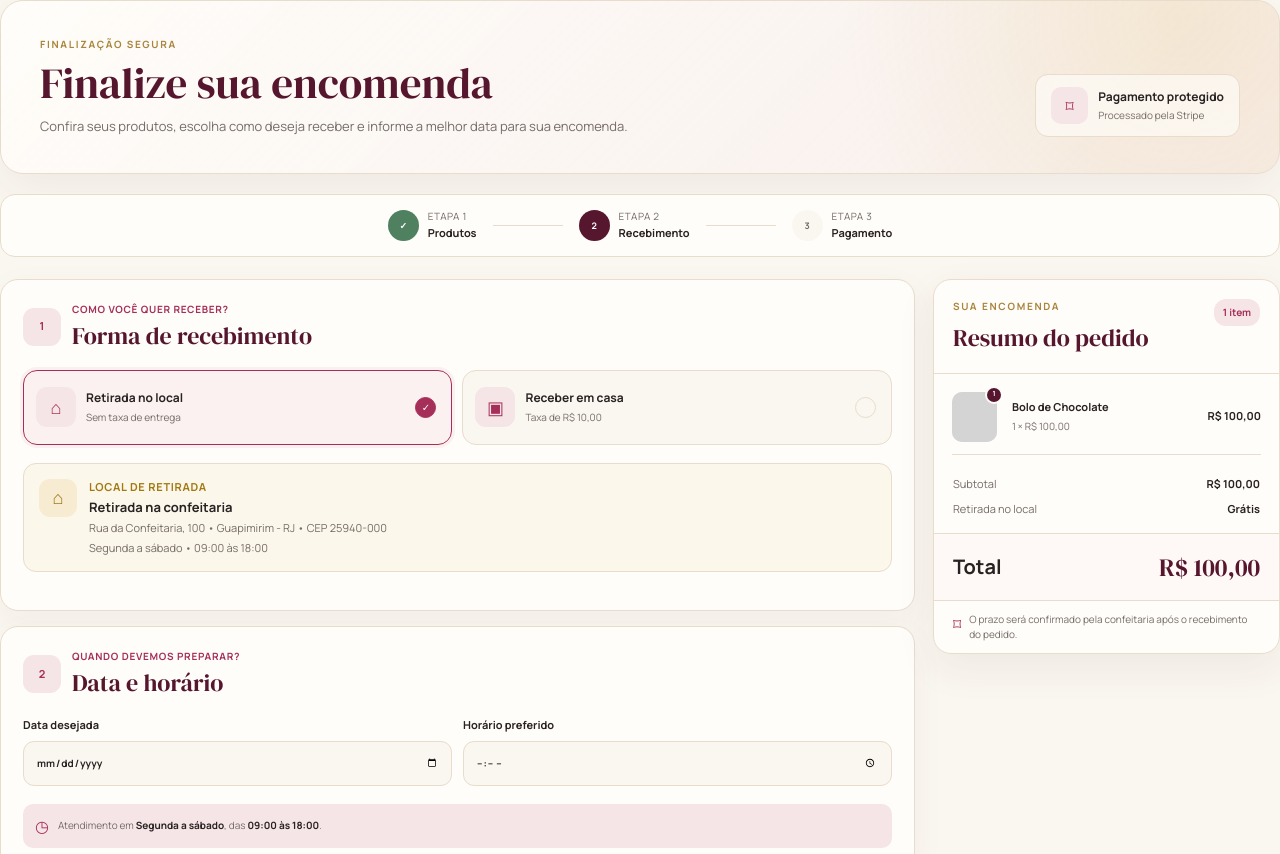
Test: Payment - validações › exige número ou S/N no endereço
Click the button "▣ Receber em casa Taxa de R$ 10,00" at (495, 407), box [462,370,892,445]
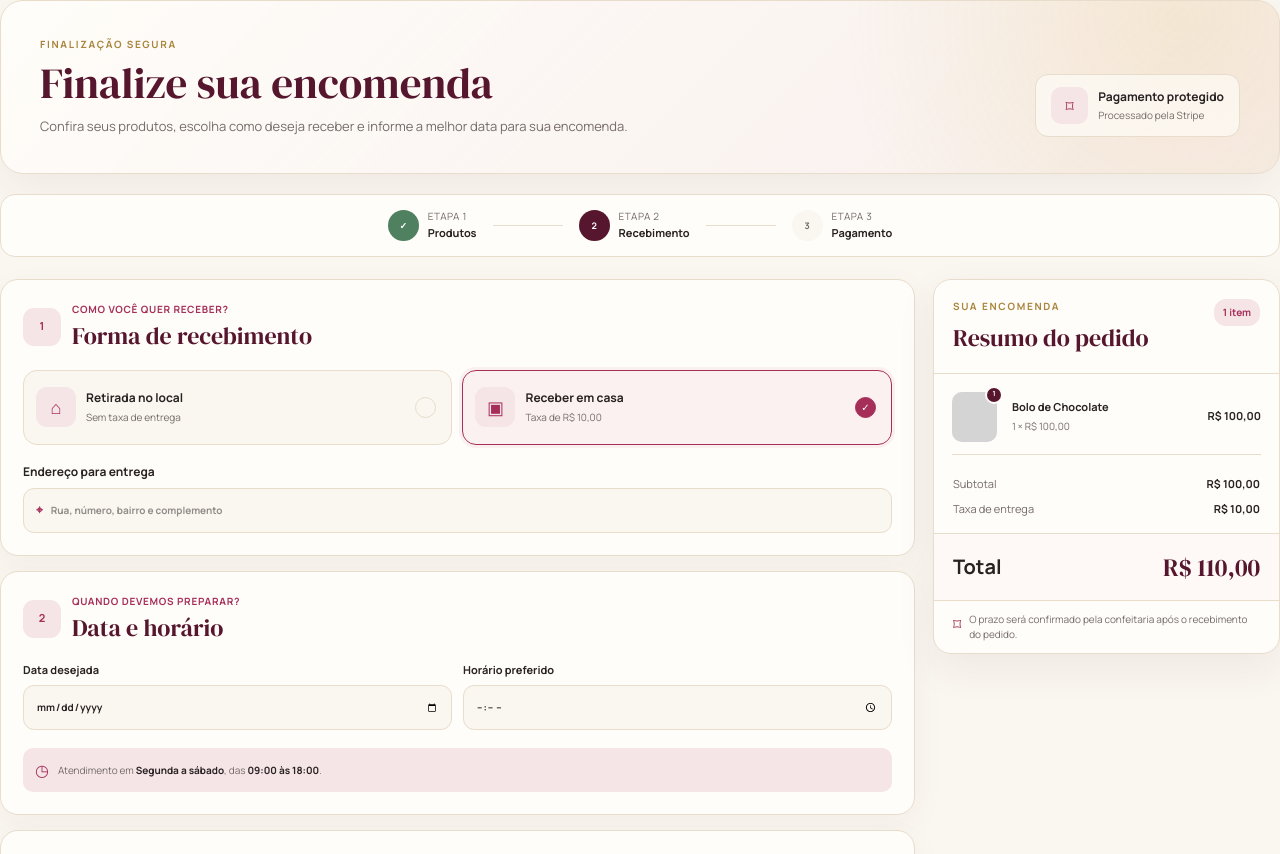
Type "Rua das Flores, Centro" into the field labelled "Endereço para entrega ⌖" at (465, 510), box [51,503,879,518]
(page scrolled)
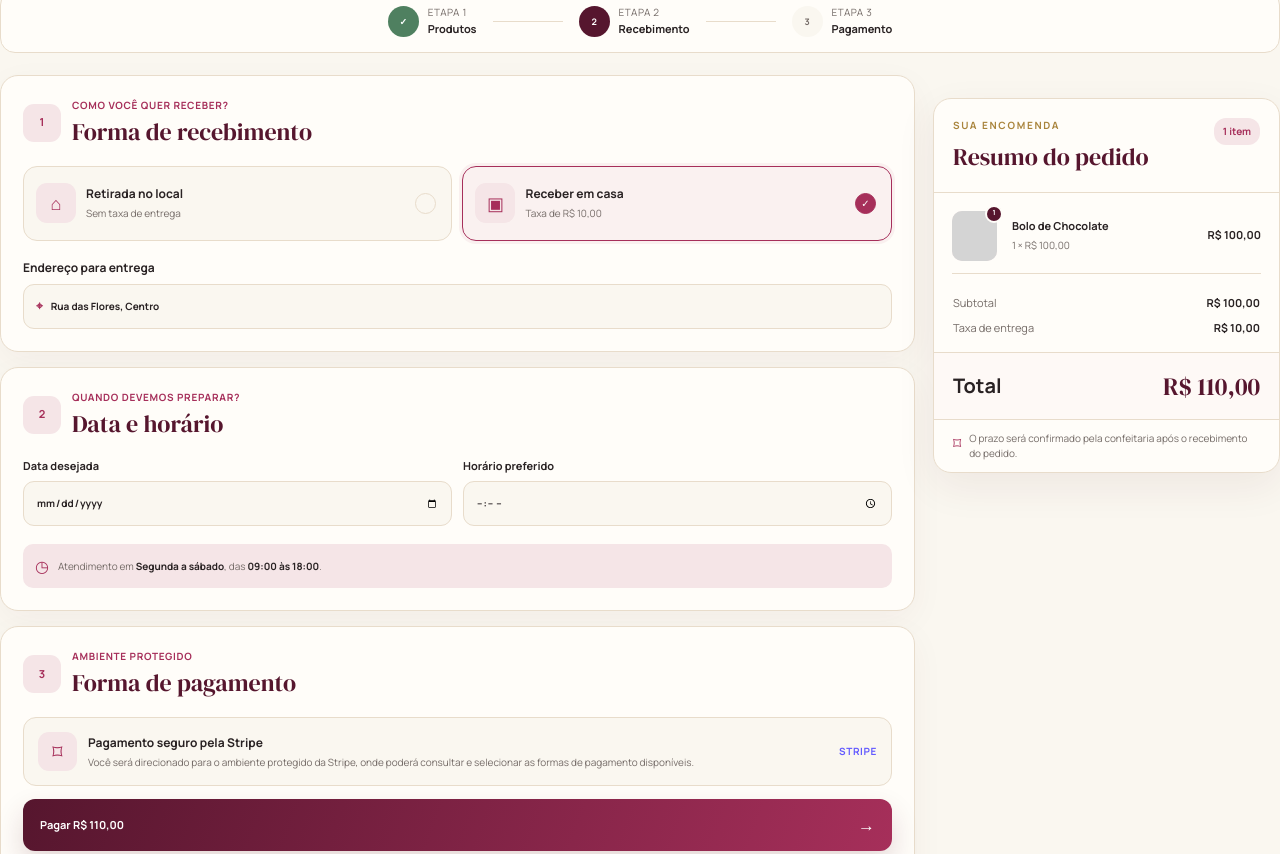
Click the button "Pagar R$ 110,00 →" at (82, 824), box [23,799,892,851]
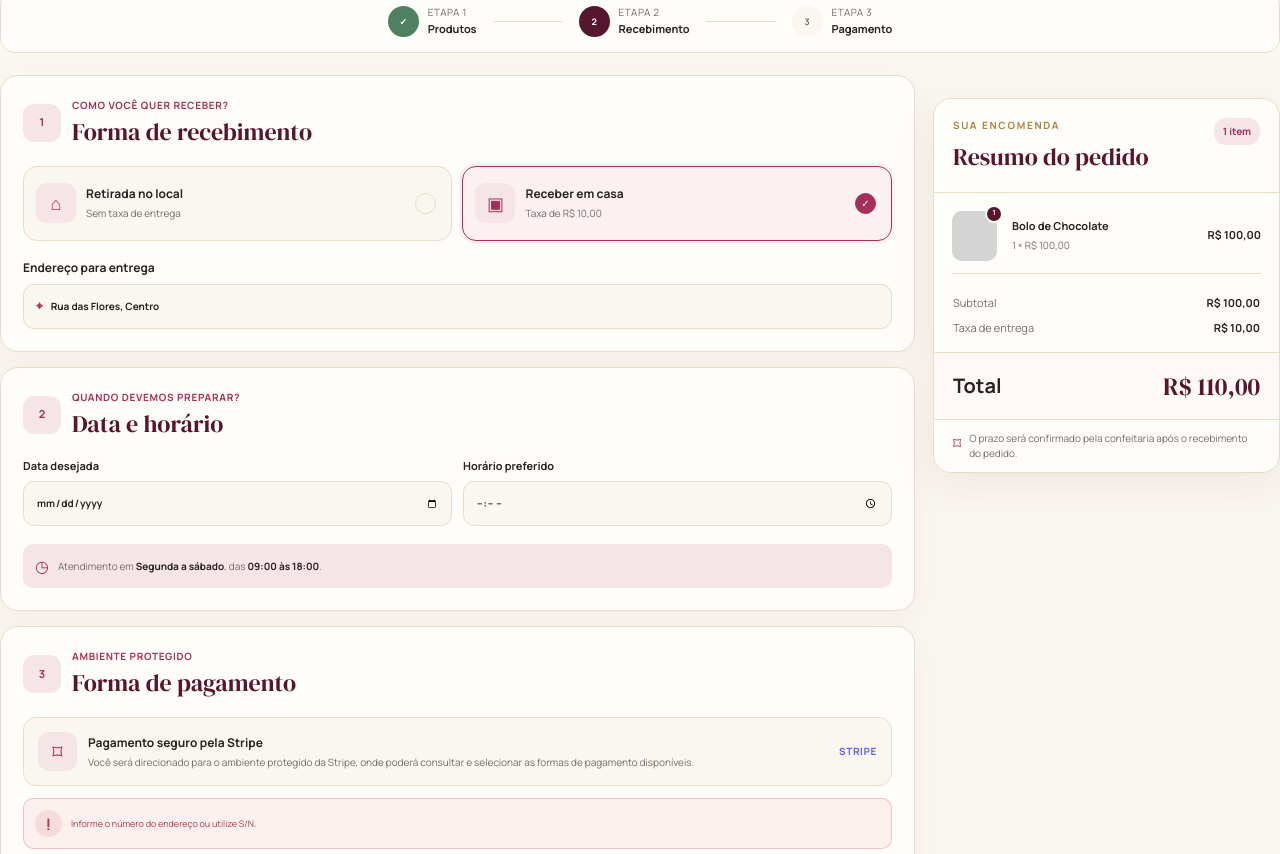
Check: the message shows "Informe o número do endereço ou utilize S/N.", box [71,817,256,830]
